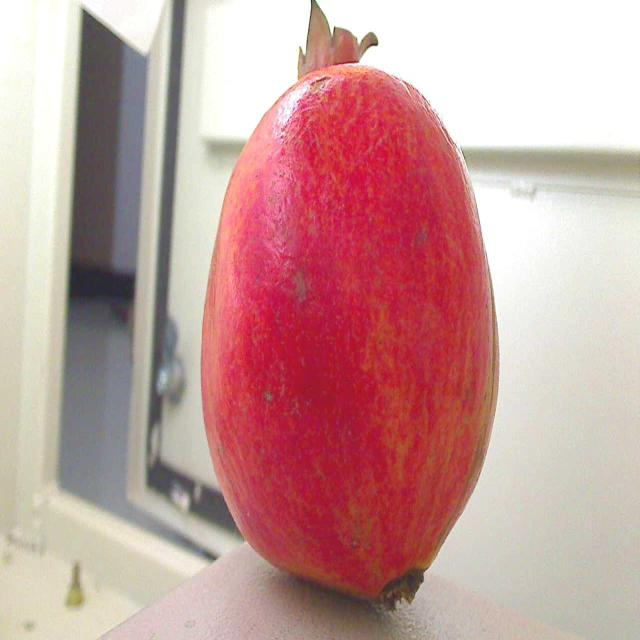pomegranate: (192, 0, 516, 640)
